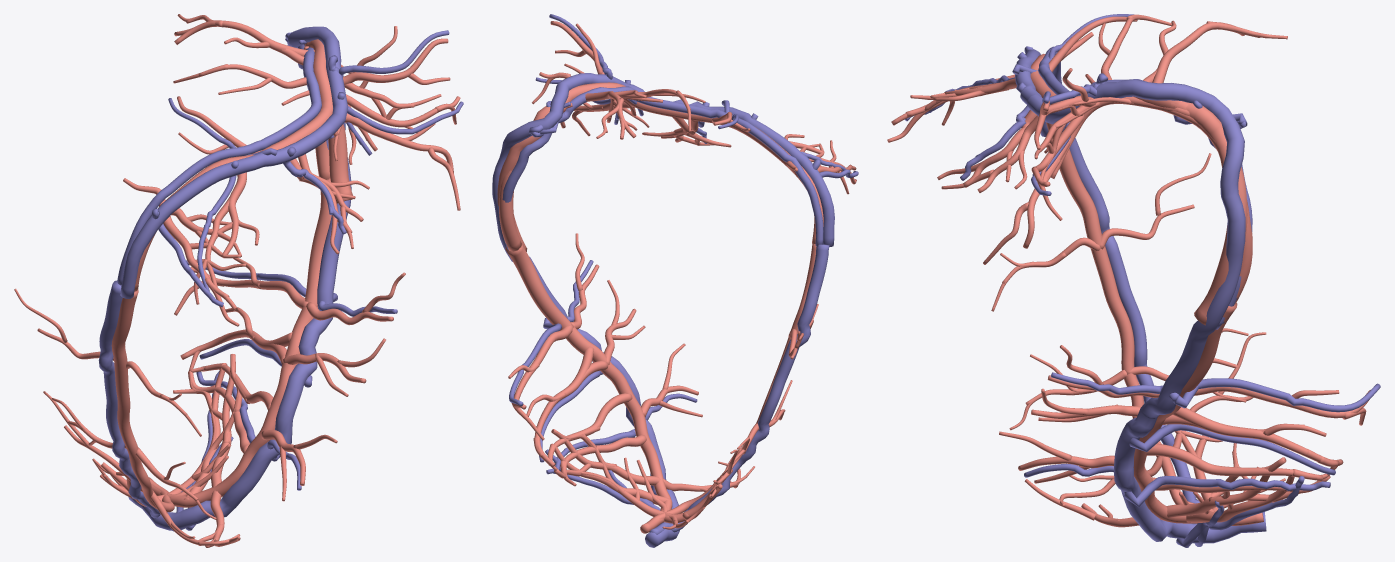
Rendered from vessels_36.glb.
3 renders of one model, left to right at view 1: azimuth 30°, elevation 25°; view 2: azimuth 150°, elevation 25°; view 3: azimuth 270°, elevation 25°, orthographic. The views are drawn at different scales.
Parts seen in each view (by area): view 1: Renderer Node; view 2: Renderer Node; view 3: Renderer Node.
Boxes of the visible parts, x1,y1,x2,y2 form: Renderer Node: [14, 14, 463, 547]; Renderer Node: [492, 14, 858, 547]; Renderer Node: [887, 14, 1380, 547].
Bounding box in the file's own units: 94.04 × 121 × 95.11.
